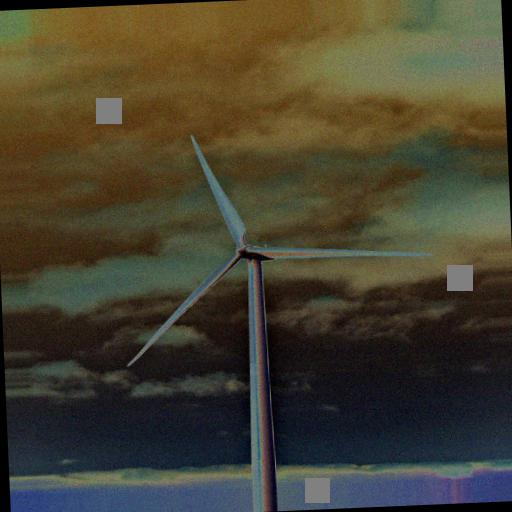wind turbine: (125, 135, 432, 504)
